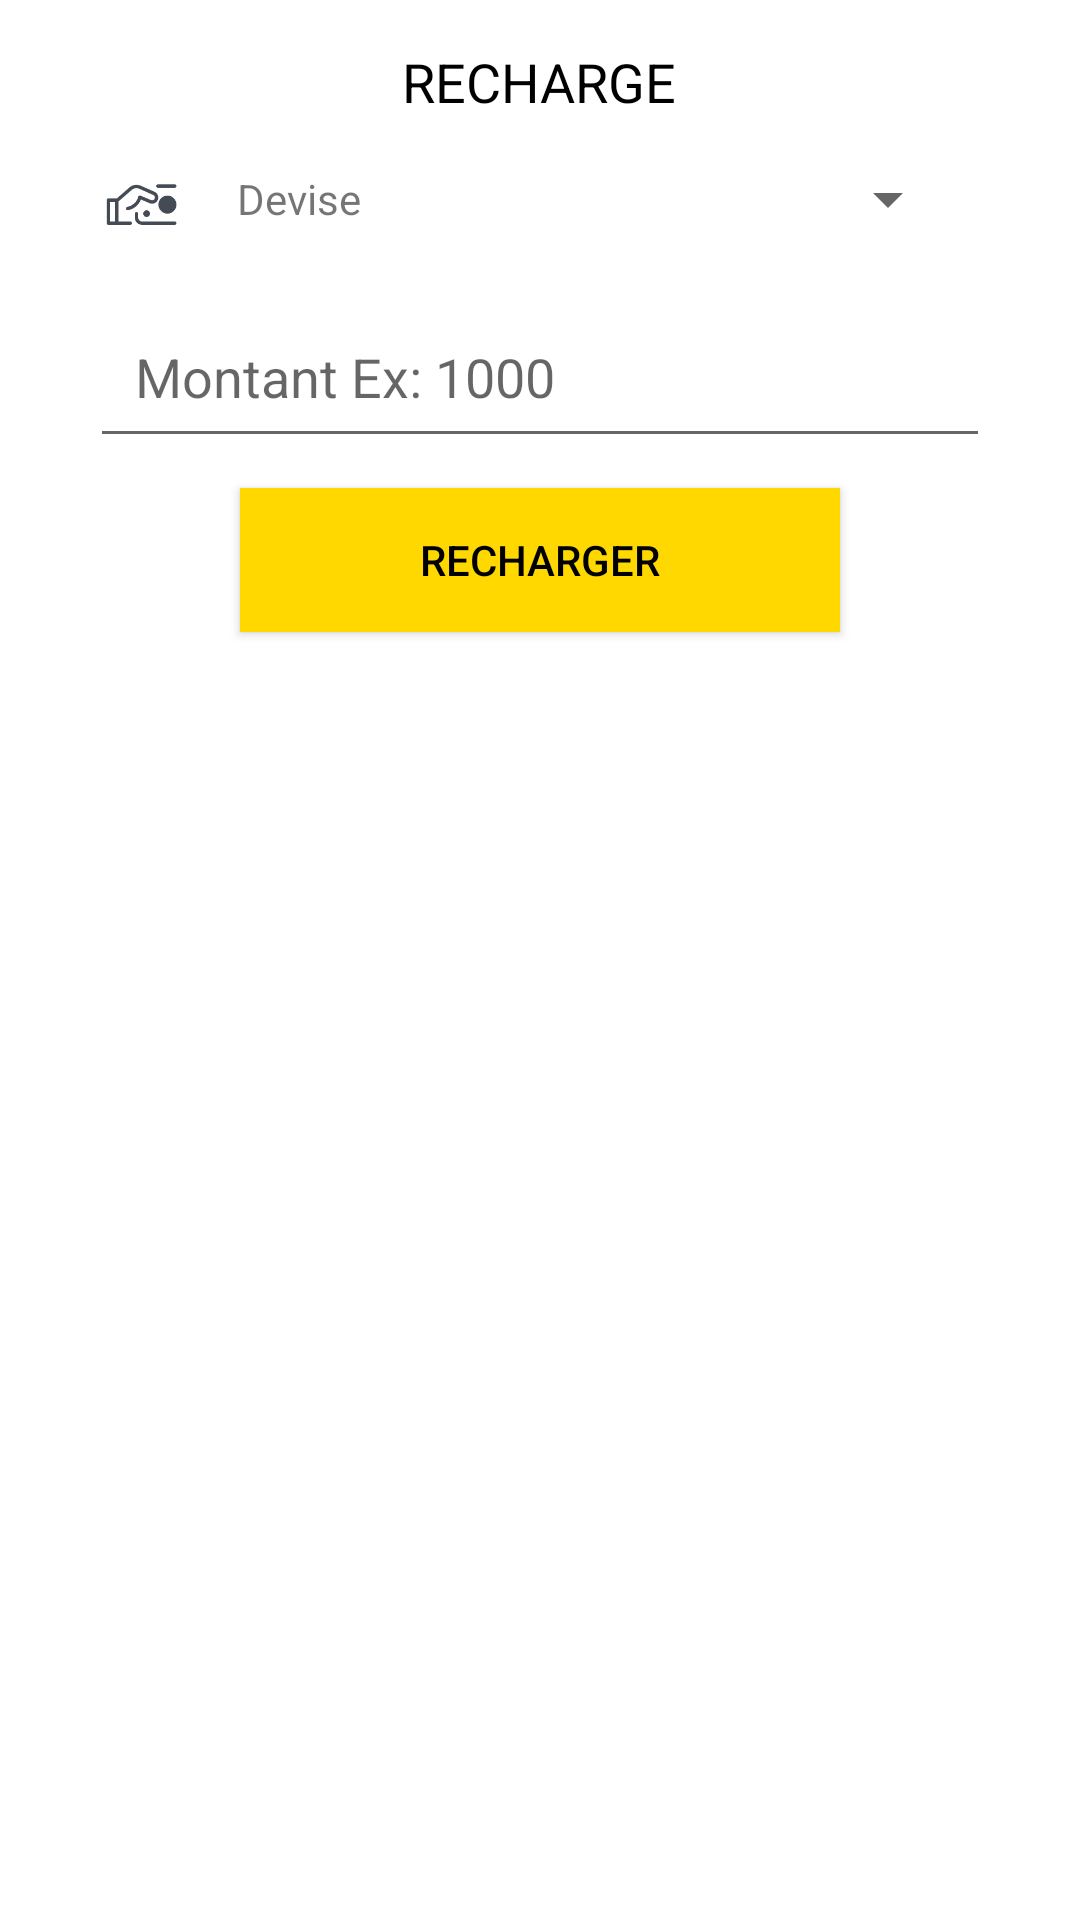

Screen size 1080w x 1920h. Icon name, then its center in pixels as (x=x, y=y):
pay: (x=141, y=204)
